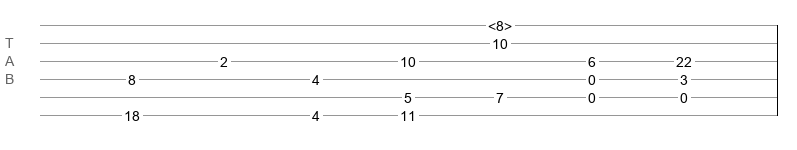0: (588, 72, 596, 82), (588, 90, 596, 100), (680, 90, 688, 100)
10: (400, 54, 416, 64), (492, 36, 508, 46)
11: (400, 108, 416, 118)
18: (124, 108, 140, 118)
2: (220, 54, 228, 64)
22: (676, 54, 692, 64)
3: (680, 72, 688, 82)
4: (312, 72, 320, 82), (312, 108, 320, 118)
5: (404, 90, 412, 100)
6: (588, 54, 596, 64)
7: (496, 90, 504, 100)
8: (128, 72, 136, 82)
harmonic: (488, 18, 512, 28)
